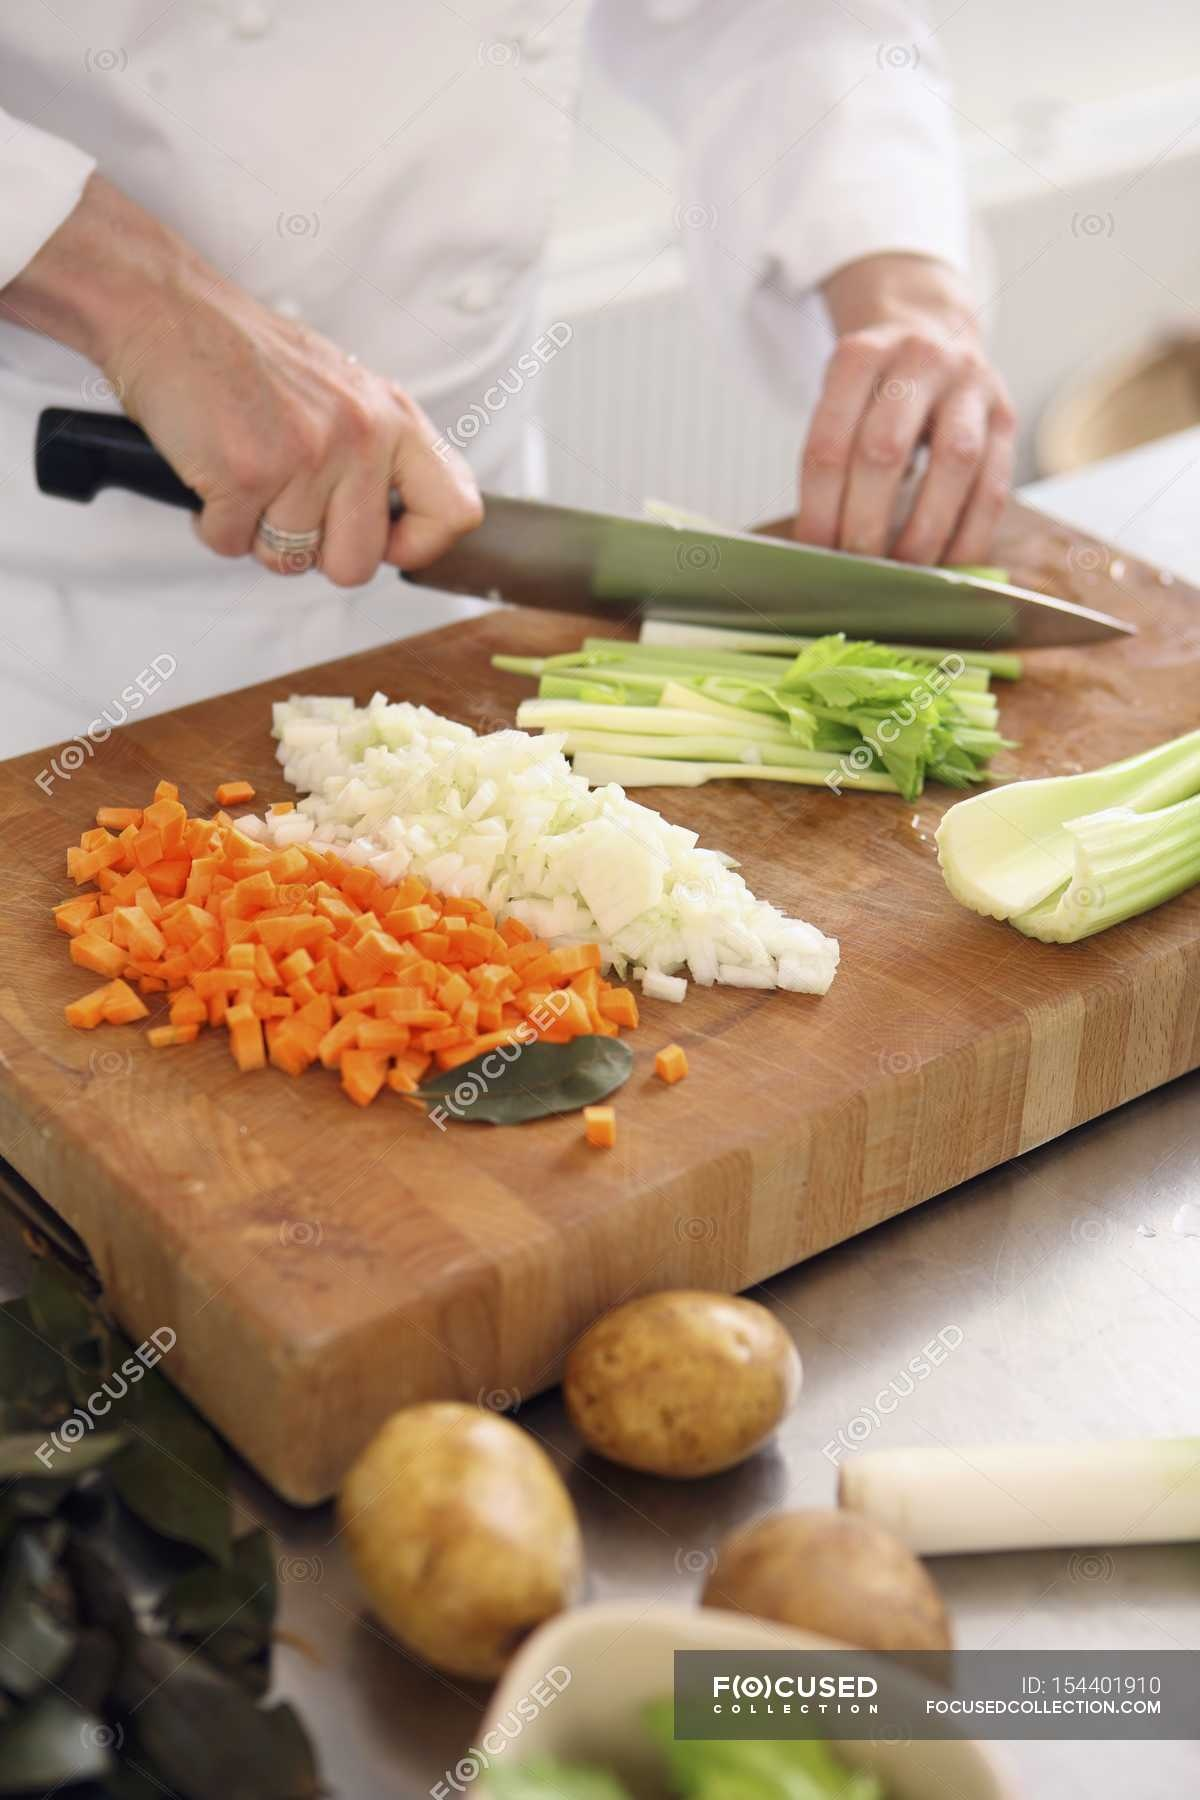knife: (31, 400, 1144, 666)
